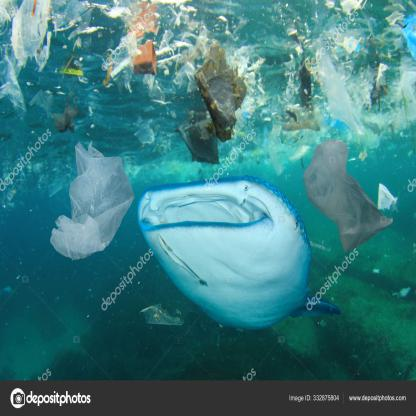waste: (53, 143, 136, 260), (304, 138, 392, 247), (195, 41, 248, 142), (286, 44, 321, 134), (13, 0, 52, 71), (366, 33, 394, 110), (181, 117, 221, 165), (130, 40, 158, 76), (140, 304, 185, 326), (377, 183, 398, 212), (54, 105, 75, 131), (61, 57, 83, 80)
